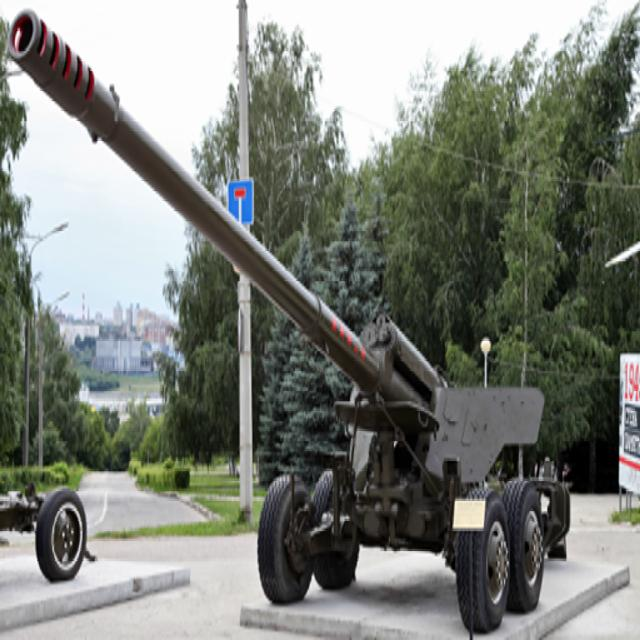ART: (6, 9, 572, 634)
